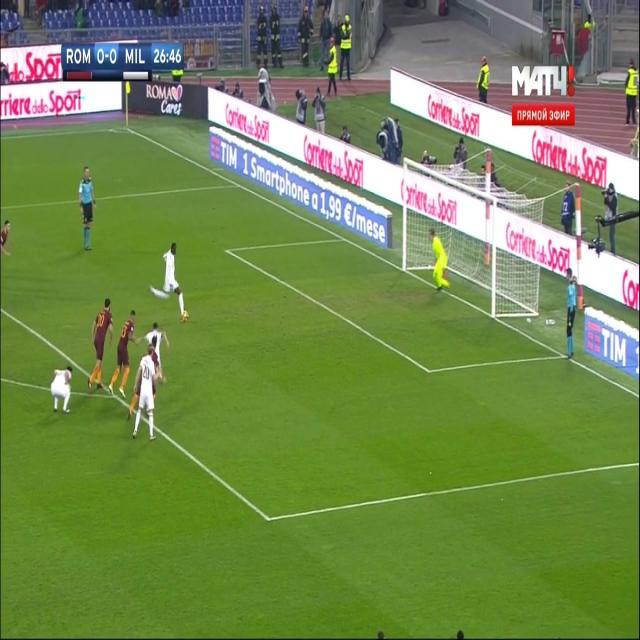Ball: (180, 307, 190, 325)
Goalkeeper: (427, 224, 453, 292)
Player: (149, 238, 186, 320), (108, 306, 140, 399), (85, 295, 115, 390), (131, 345, 158, 447), (49, 364, 74, 419), (142, 319, 172, 351), (0, 216, 12, 258)
Referee: (77, 165, 99, 254), (565, 268, 577, 360)
